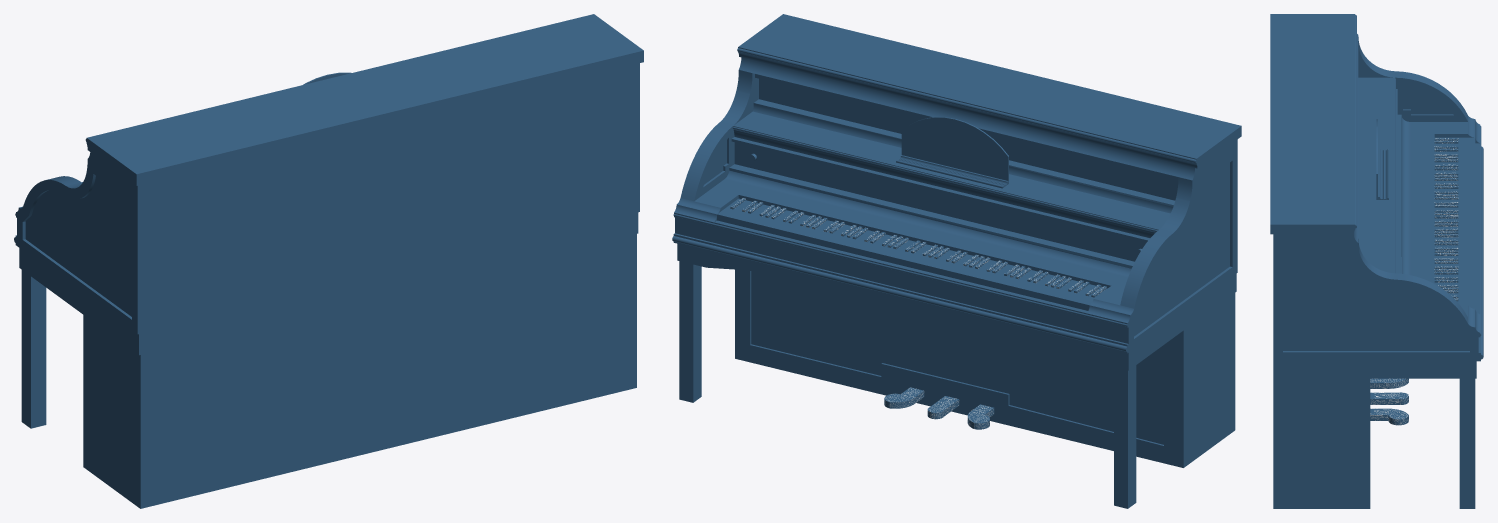
The picture shows the model from 3 angles, left to right: view 1: azimuth 30°, elevation 25°; view 2: azimuth 150°, elevation 25°; view 3: azimuth 270°, elevation 25°; orthographic projection. The views are drawn at different scales.
Visible parts, largest first — view 1: mesh1_mesh1-geometry; view 2: mesh1_mesh1-geometry; view 3: mesh1_mesh1-geometry.
Boxes of the visible parts, bbox=[...] form: mesh1_mesh1-geometry: bbox=[14, 14, 643, 508]; mesh1_mesh1-geometry: bbox=[672, 14, 1241, 508]; mesh1_mesh1-geometry: bbox=[1270, 14, 1483, 508].
Size of the model in its own units: 0.794 by 0.5042 by 0.3396.
